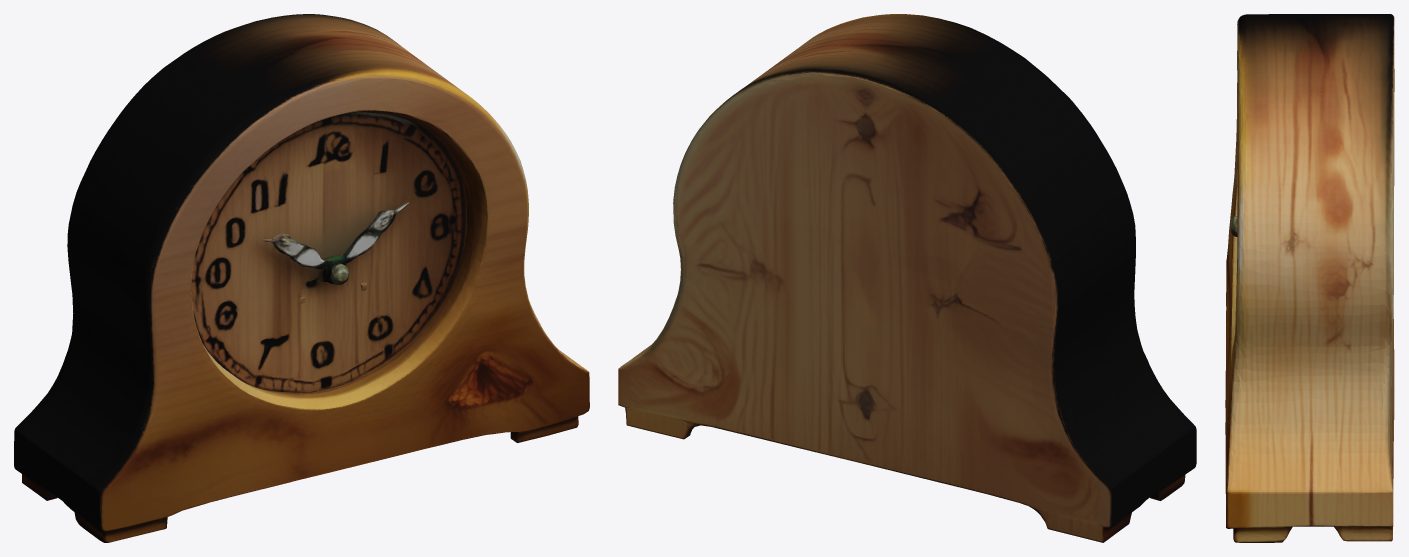
Rendered from wooden-desk-clock-rustic.jpeg.glb.
3 renders of one model, left to right at view 1: azimuth 30°, elevation 25°; view 2: azimuth 150°, elevation 25°; view 3: azimuth 270°, elevation 25°, orthographic. The views are drawn at different scales.
Visible parts, largest first — view 1: world; view 2: world; view 3: world.
Part boxes in pixels (x1,y1,x2,y2): world: (14,14,589,542); world: (618,14,1196,542); world: (1225,14,1394,542).
Bounding box in the file's own units: 1 × 0.793 × 0.3076.
1 material, 1 textured.
